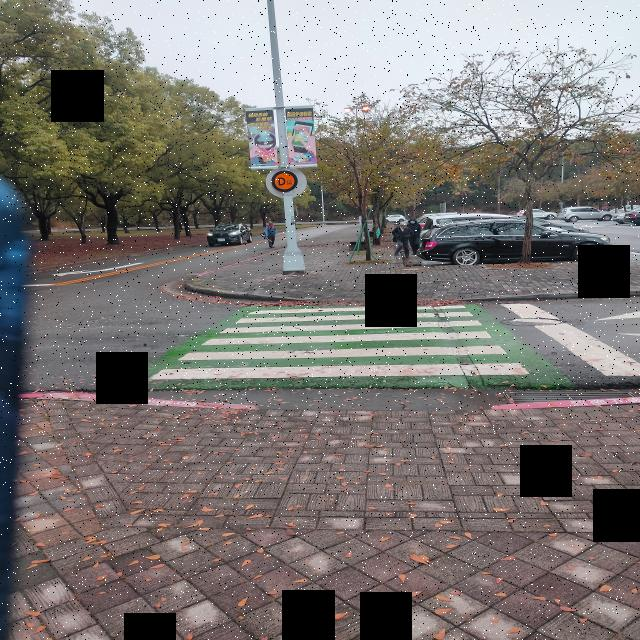zebra crossing: (138, 309, 538, 387)
